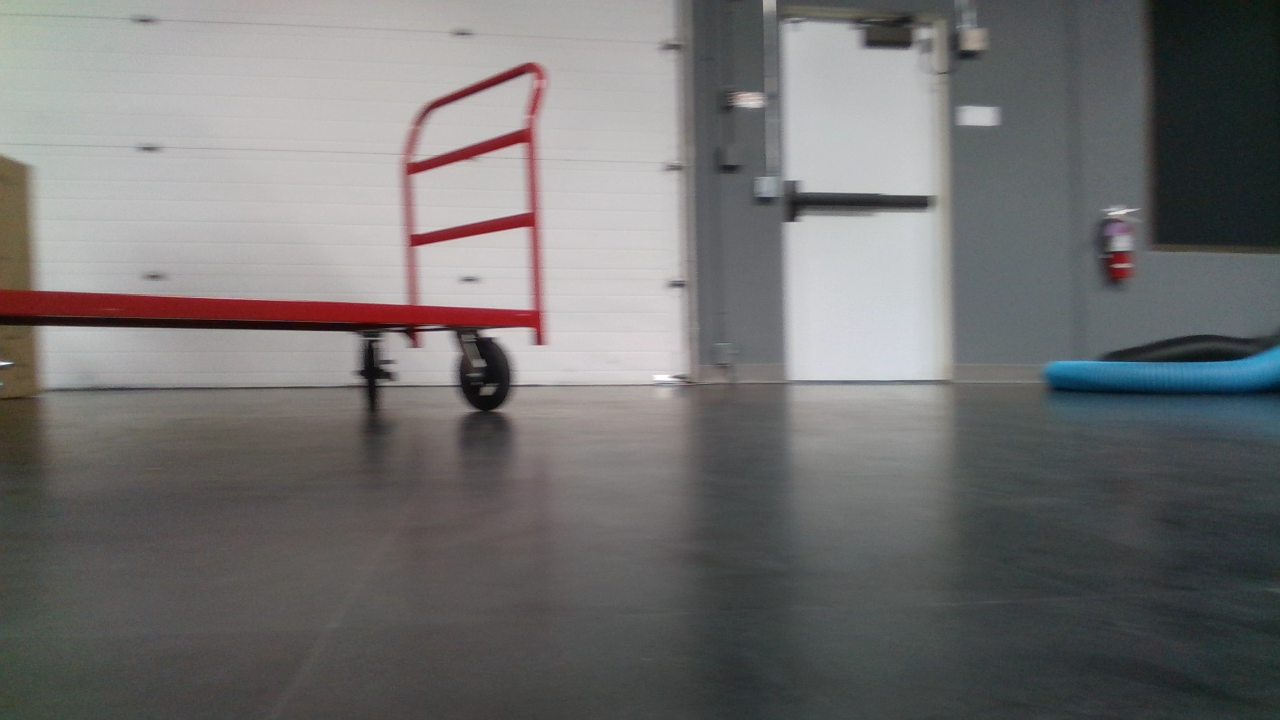Dolly: (0, 59, 547, 413)
Wheel: (458, 334, 514, 411), (354, 337, 396, 411)
